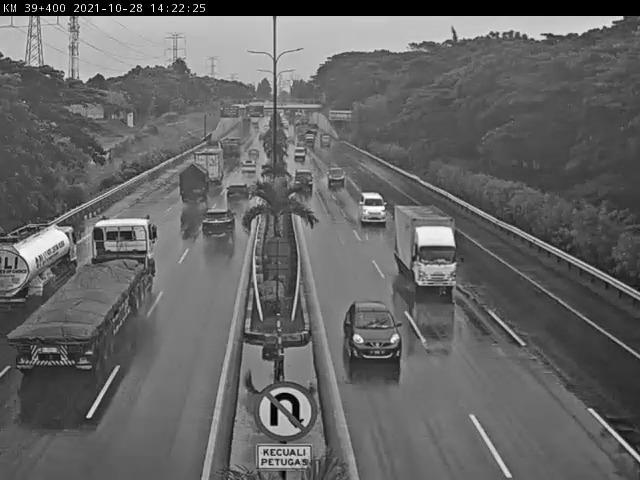big truck: (76, 213, 166, 363), (195, 136, 230, 181)
car: (339, 300, 405, 366), (197, 210, 237, 246), (355, 190, 390, 228), (325, 164, 351, 189), (224, 184, 252, 206), (238, 158, 261, 180), (297, 173, 318, 196), (289, 143, 311, 162), (247, 148, 260, 163)
small truck: (396, 203, 464, 297), (0, 223, 84, 281), (176, 163, 212, 207)
